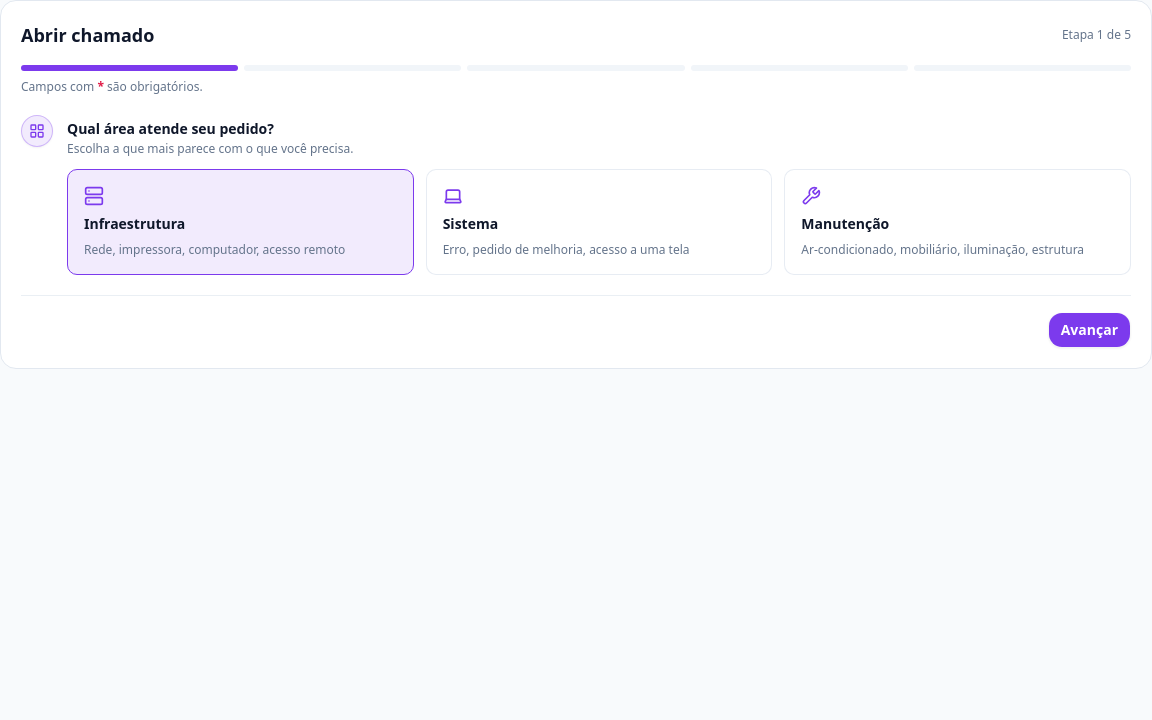
Test: AcerolaOpenTicketForm › shows the AnyDesk field for the infra area
This screenshot has width=1152, height=720.
Click the button "Avançar" at (1089, 330), box left=1048, top=312, right=1131, bottom=348
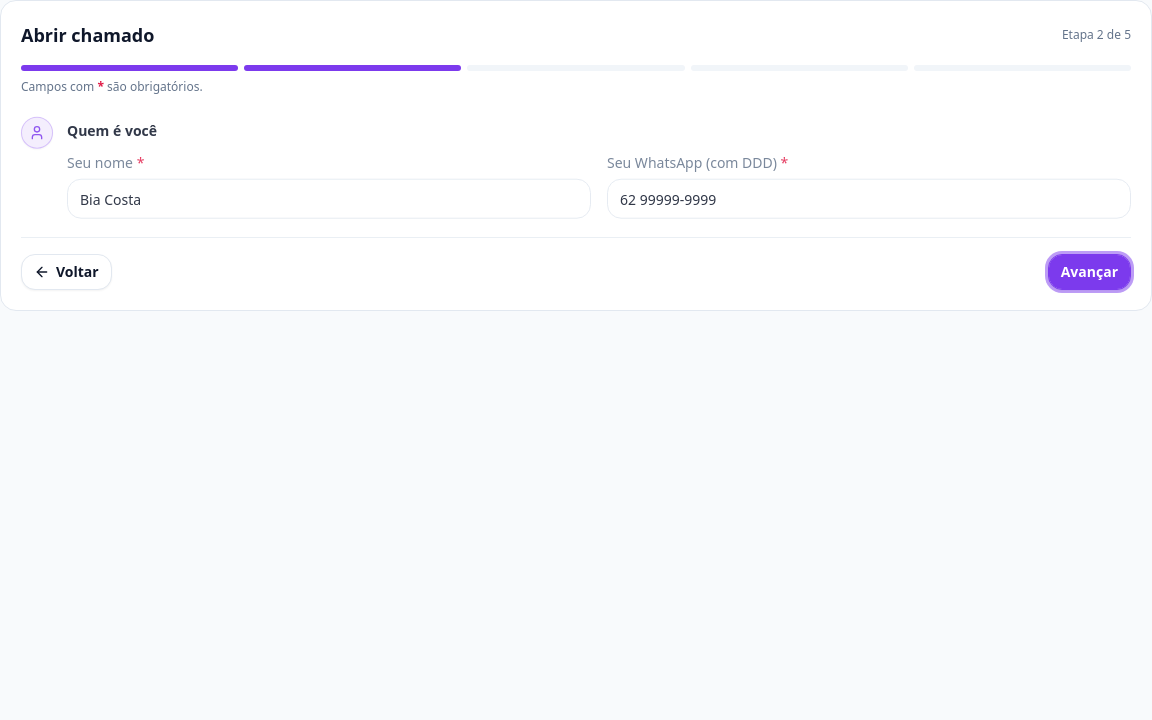
Click the button "Avançar" at (1089, 272), box left=1048, top=254, right=1131, bottom=290
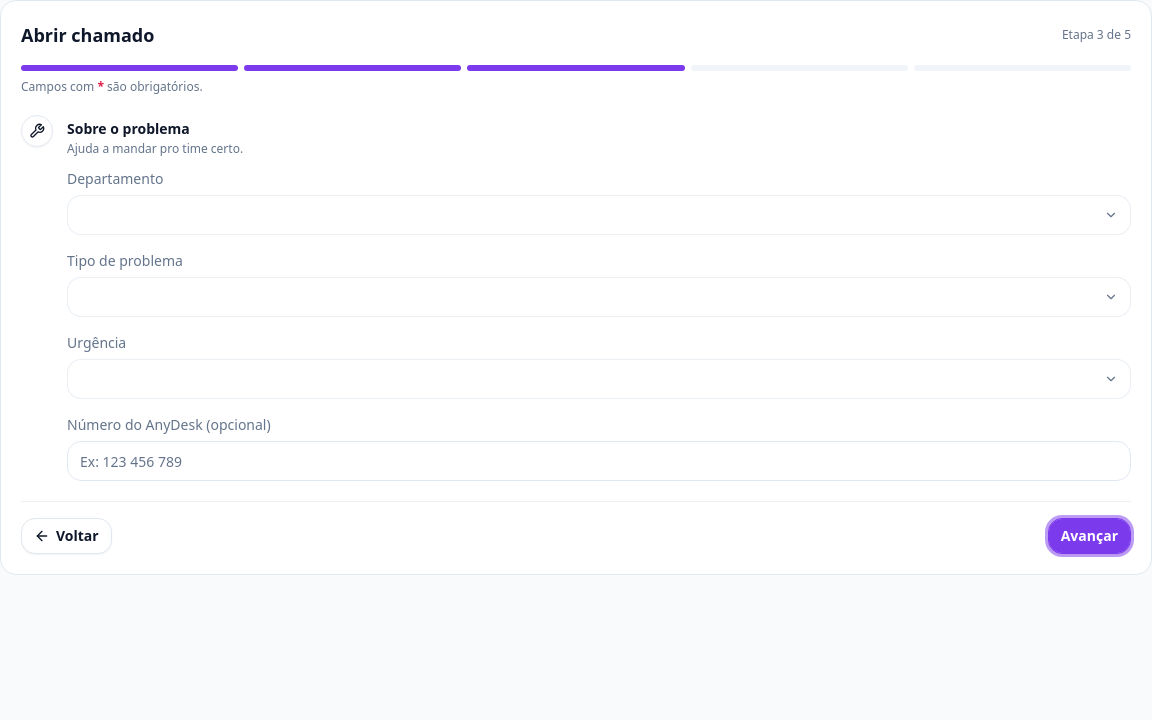
Result: the field with placeholder "Ex: 123 456 789" is shown at left=67, top=441, right=1131, bottom=481
